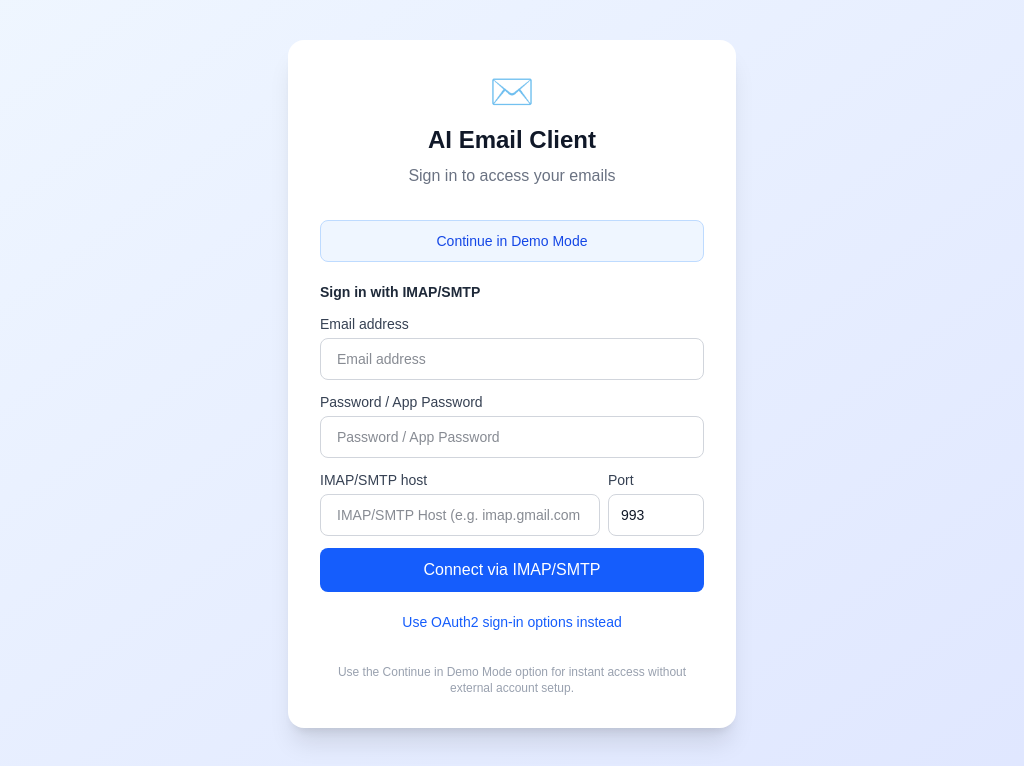
Test case: LoginPage › prefers IMAP/SMTP by default and keeps OAuth2 options collapsed
This screenshot has width=1024, height=766.
Expected: the heading "Sign in with IMAP/SMTP" is shown, [320,284,480,300]
Expected: the field labelled "Email address" is shown, [320,338,704,380]
Click the button "Use OAuth2 sign-in options instead": (512,622) [320,604,704,640]
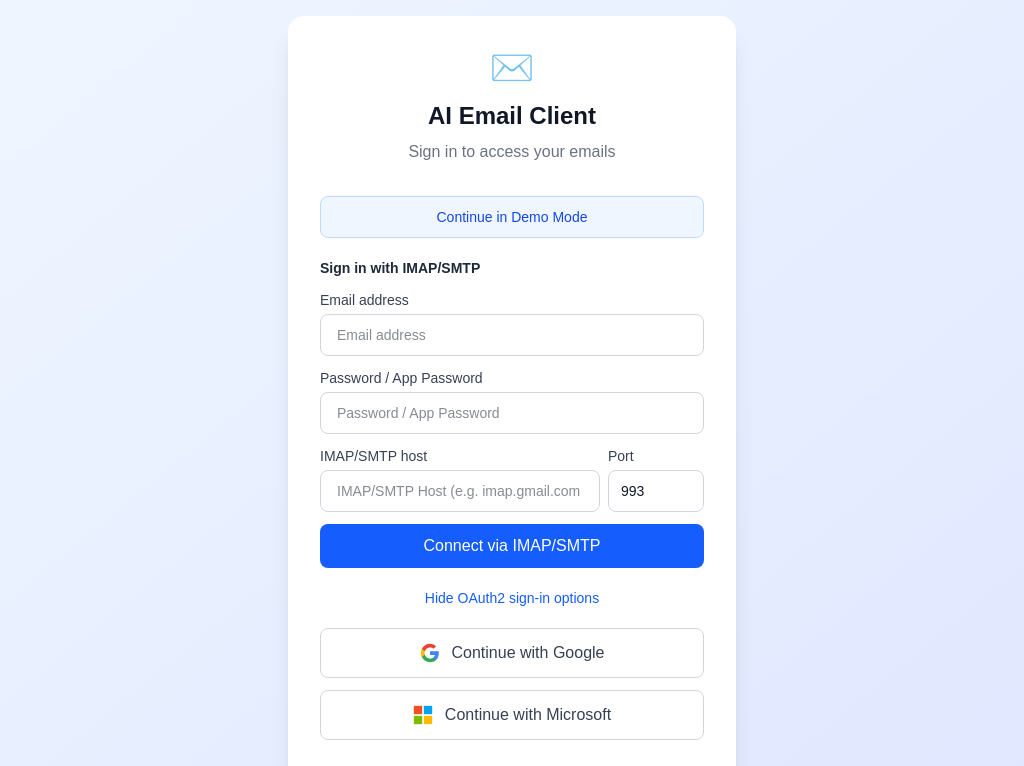
Expected: the button "Continue with Google" is shown, [320,628,704,678]
Expected: the button "Continue with Microsoft" is shown, [320,690,704,740]
